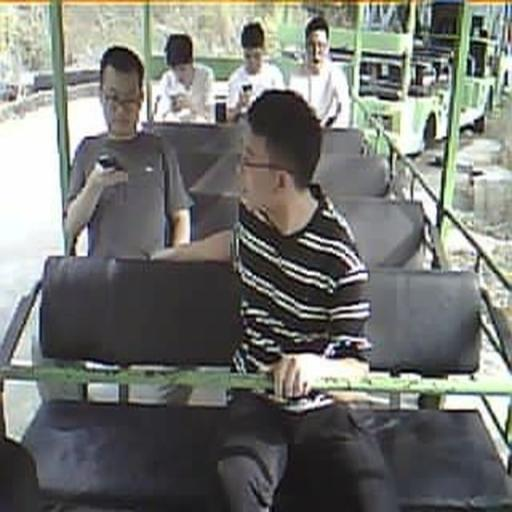persona: (151, 86, 386, 510), (63, 45, 195, 259), (289, 16, 352, 128), (226, 20, 286, 122), (152, 33, 216, 123)
